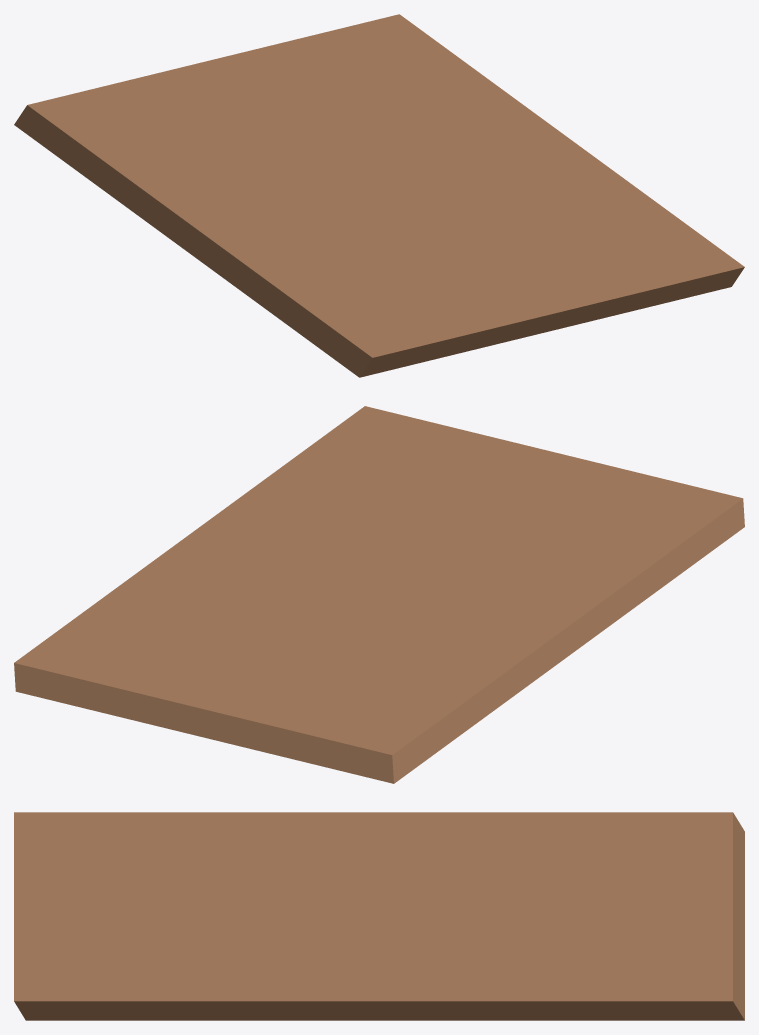
File: CuttingBoard.glb
3 views of the same model, one above another, from view 1: azimuth 30°, elevation 25°; view 2: azimuth 150°, elevation 25°; view 3: azimuth 270°, elevation 25° (orthographic). The views are drawn at different scales.
Visible parts, largest first — view 1: Cutting Board; view 2: Cutting Board; view 3: Cutting Board.
Boxes of the visible parts, left/top/right/bottom form: Cutting Board: left=14, top=14, right=744, bottom=377; Cutting Board: left=14, top=406, right=744, bottom=783; Cutting Board: left=14, top=812, right=744, bottom=1020.
Size of the model in its own units: 0.2856 by 0.016 by 0.4575.
